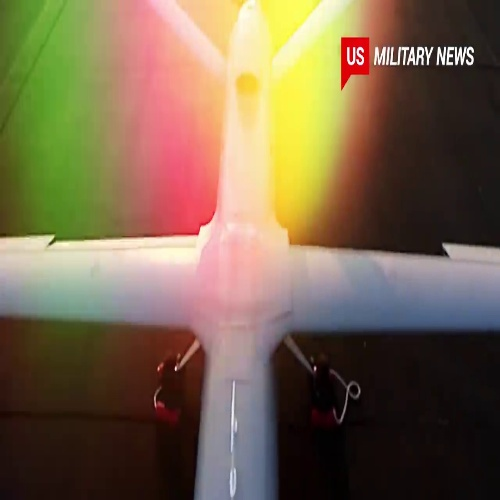uav286: (1, 1, 496, 500)
